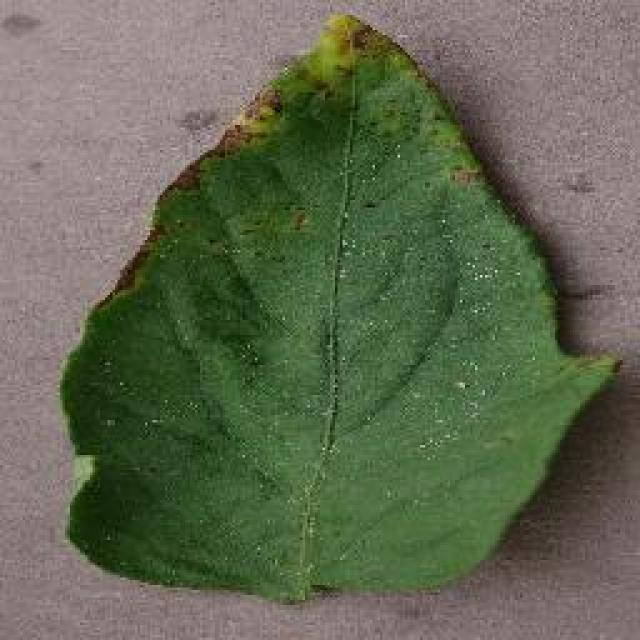Tomato bacterial spot leaf: (68, 15, 588, 603)
